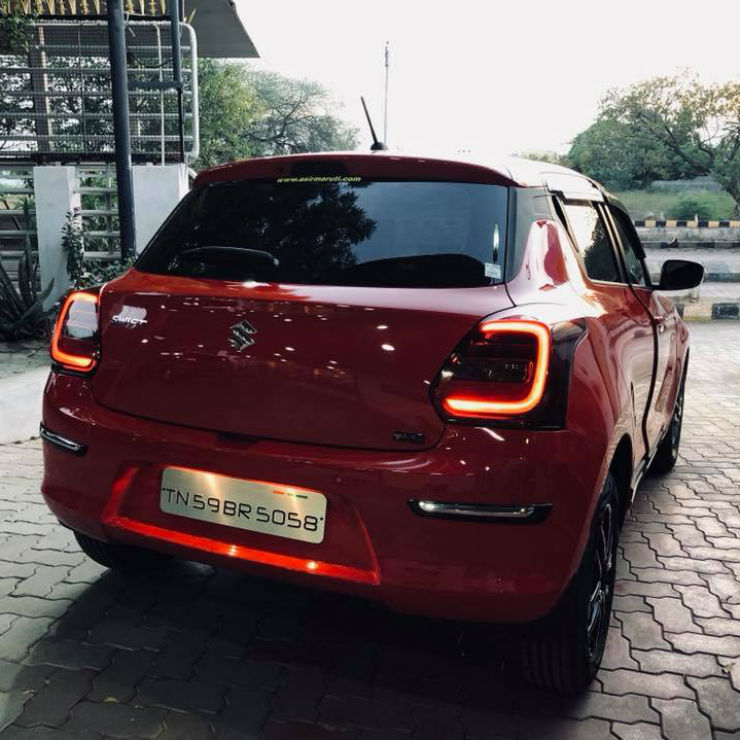number_plate: (153, 460, 331, 547)
